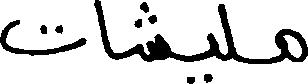X: (0, 15, 83, 60), (140, 0, 168, 66), (277, 24, 307, 66), (219, 0, 233, 65), (96, 0, 110, 62), (207, 28, 216, 83)
